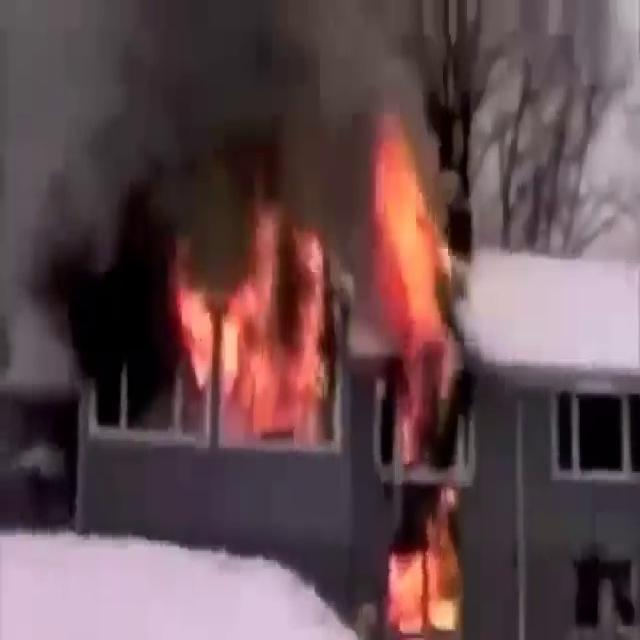Fire: (170, 194, 338, 450), (366, 103, 454, 386), (378, 506, 472, 638)
Smoke: (1, 0, 372, 381)
